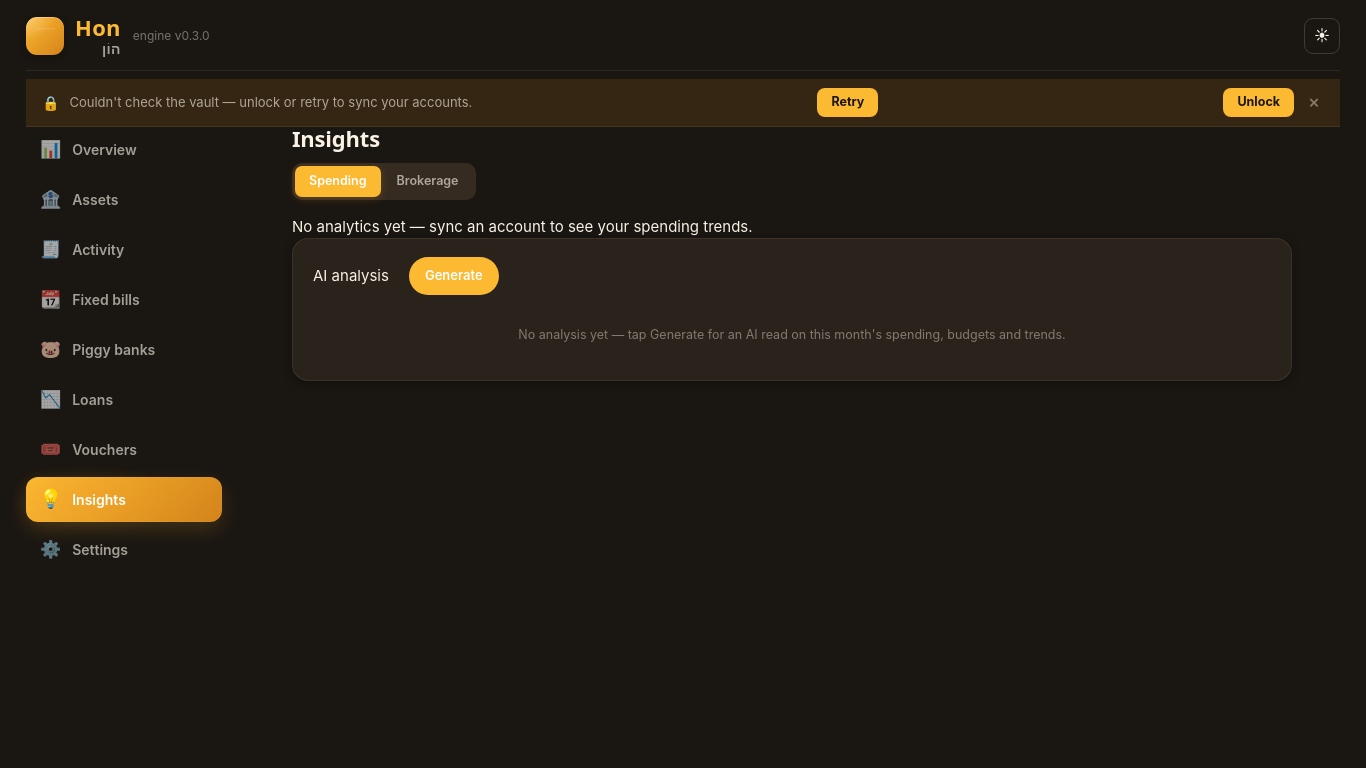
Scenario: App — tab routing › switches to the Piggy banks tab on click
This screenshot has width=1366, height=768.
Click the tab "🐷 Piggy banks" at x=124, y=349, box [26,327,222,372]
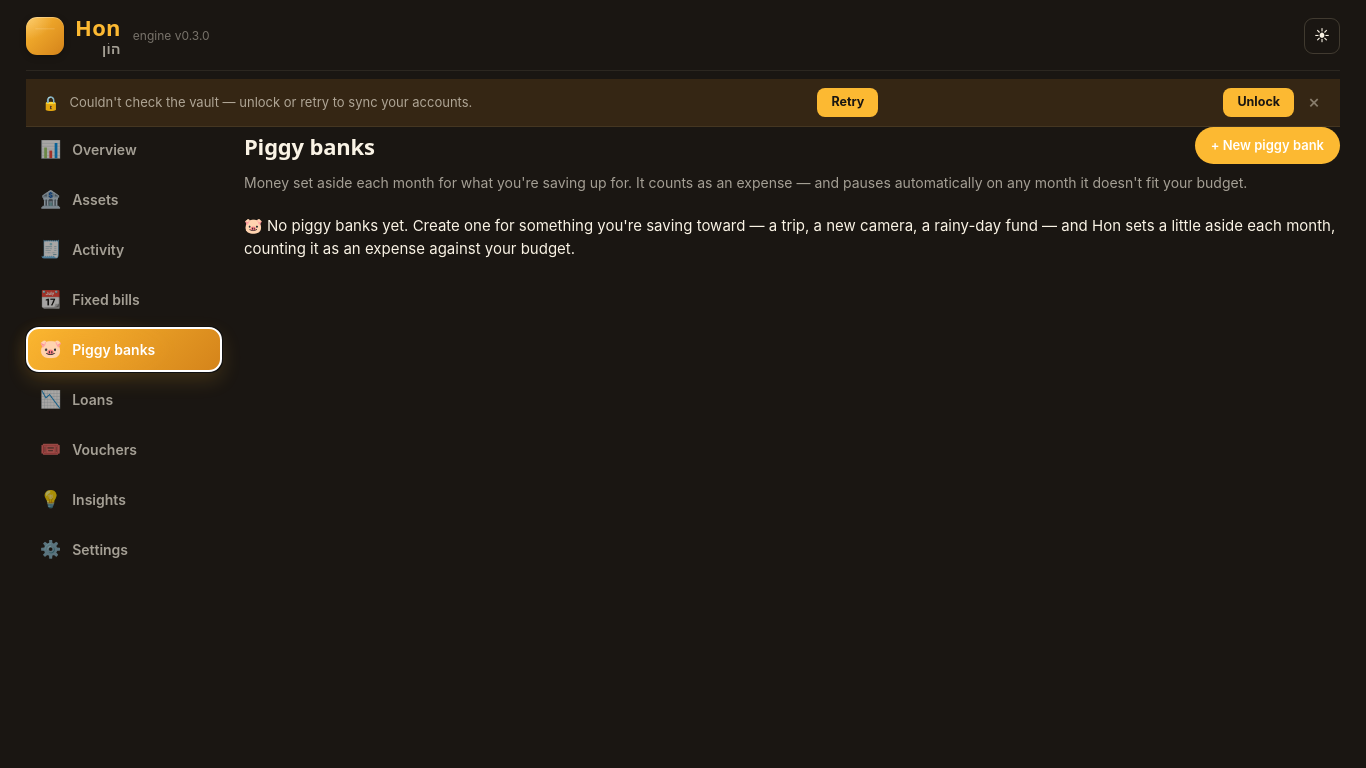
Expected: the heading "Piggy banks" is shown, [244,134,375,156]
